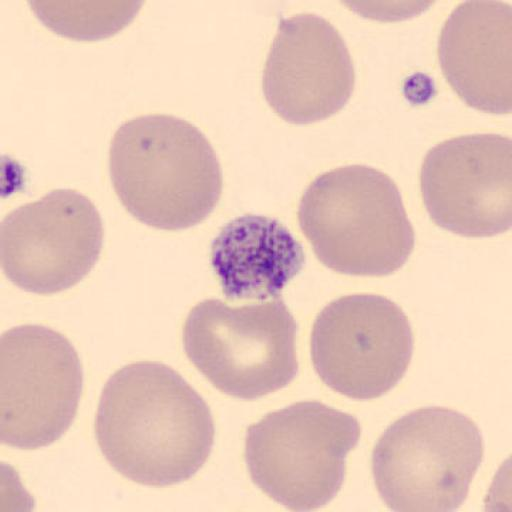Platelet: (206, 209, 310, 303)
RBC: (92, 358, 217, 492), (105, 112, 225, 235), (294, 162, 416, 281), (242, 398, 360, 512), (370, 403, 486, 512), (181, 296, 300, 402), (307, 290, 415, 403), (259, 10, 357, 127), (2, 186, 106, 296), (3, 322, 85, 452), (416, 130, 512, 239), (435, 0, 512, 118), (23, 0, 148, 44), (329, 0, 448, 24), (1, 458, 37, 512), (480, 451, 512, 511)
